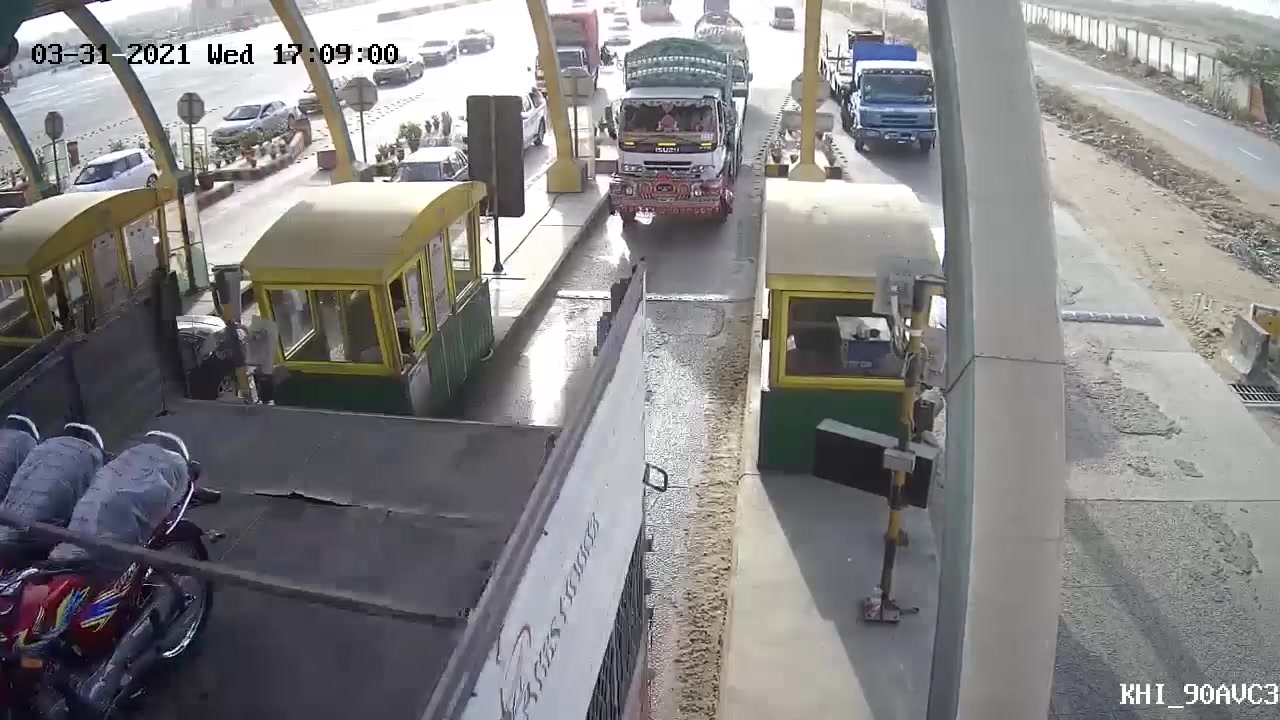F5: (591, 22, 757, 246)
